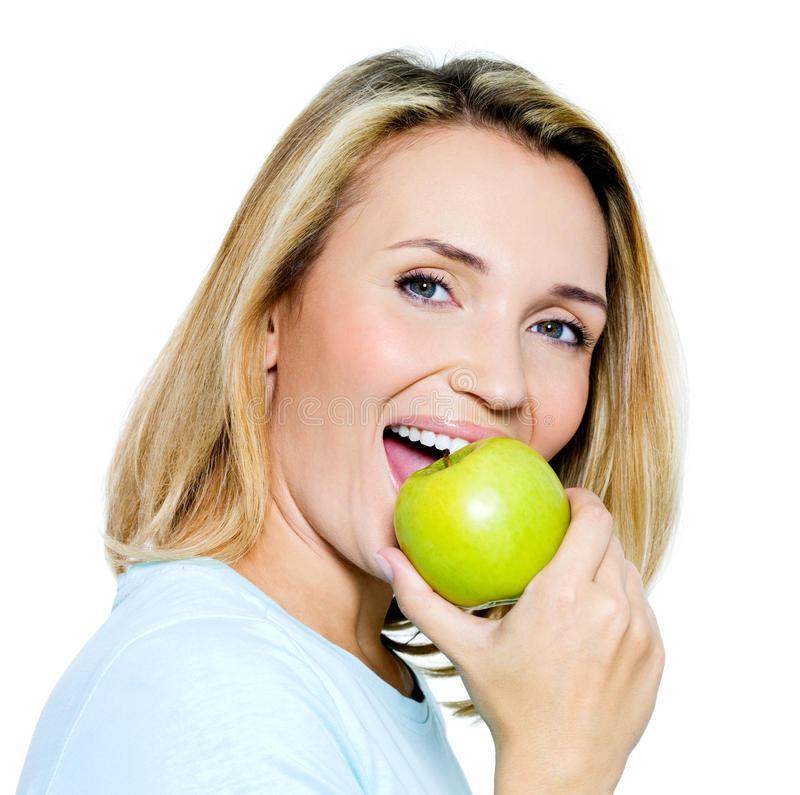apple: (392, 432, 569, 605)
